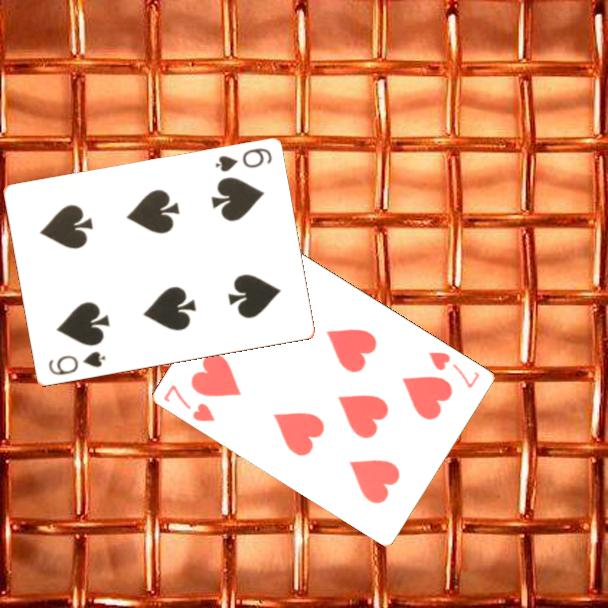h07: (160, 381, 218, 425), (425, 348, 483, 391)
s06: (211, 145, 275, 175), (45, 348, 108, 378)
